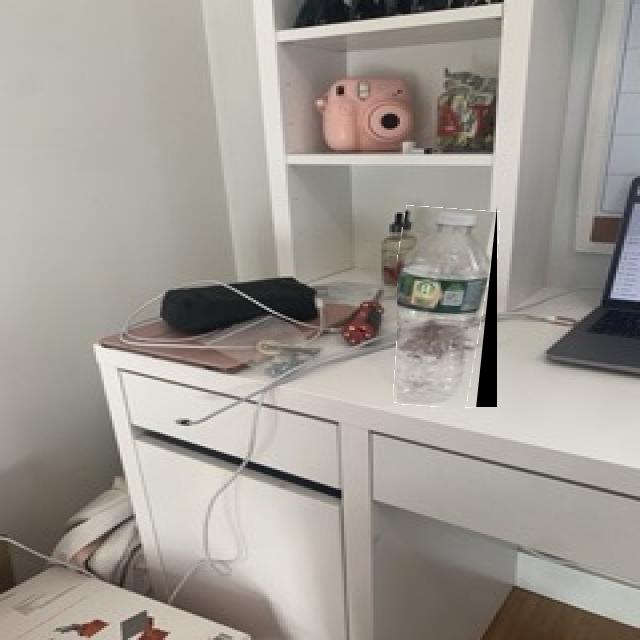water_bottle: (397, 206, 497, 407)
